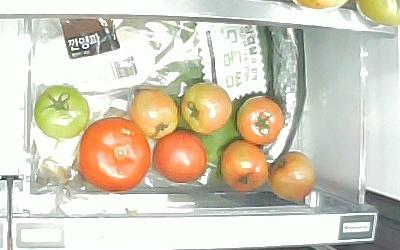tomato: (77, 118, 151, 192), (34, 84, 90, 140), (151, 128, 209, 182), (218, 139, 270, 192), (181, 82, 232, 135), (269, 150, 316, 204), (129, 89, 178, 139), (236, 96, 286, 143)
